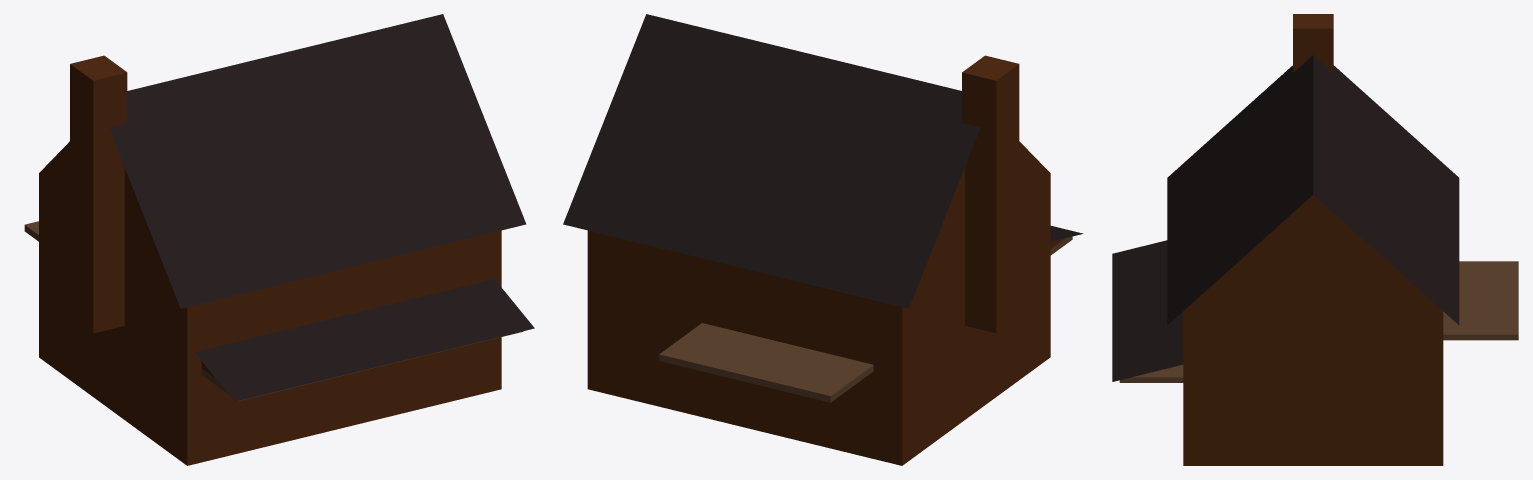
File: rw-log-house.towns-v1.lod2.glb
The picture shows the model from 3 angles, left to right: view 1: azimuth 30°, elevation 25°; view 2: azimuth 150°, elevation 25°; view 3: azimuth 270°, elevation 25°; orthographic projection. The views are drawn at different scales.
Parts seen in each view (by area): view 1: rw-log-house; view 2: rw-log-house; view 3: rw-log-house.
Boxes of the visible parts, bbox=[...] form: rw-log-house: bbox=[24, 14, 534, 465]; rw-log-house: bbox=[563, 14, 1083, 465]; rw-log-house: bbox=[1112, 14, 1518, 465].
Bounding box in the file's own units: 12.65 × 11.6 × 14.05.
